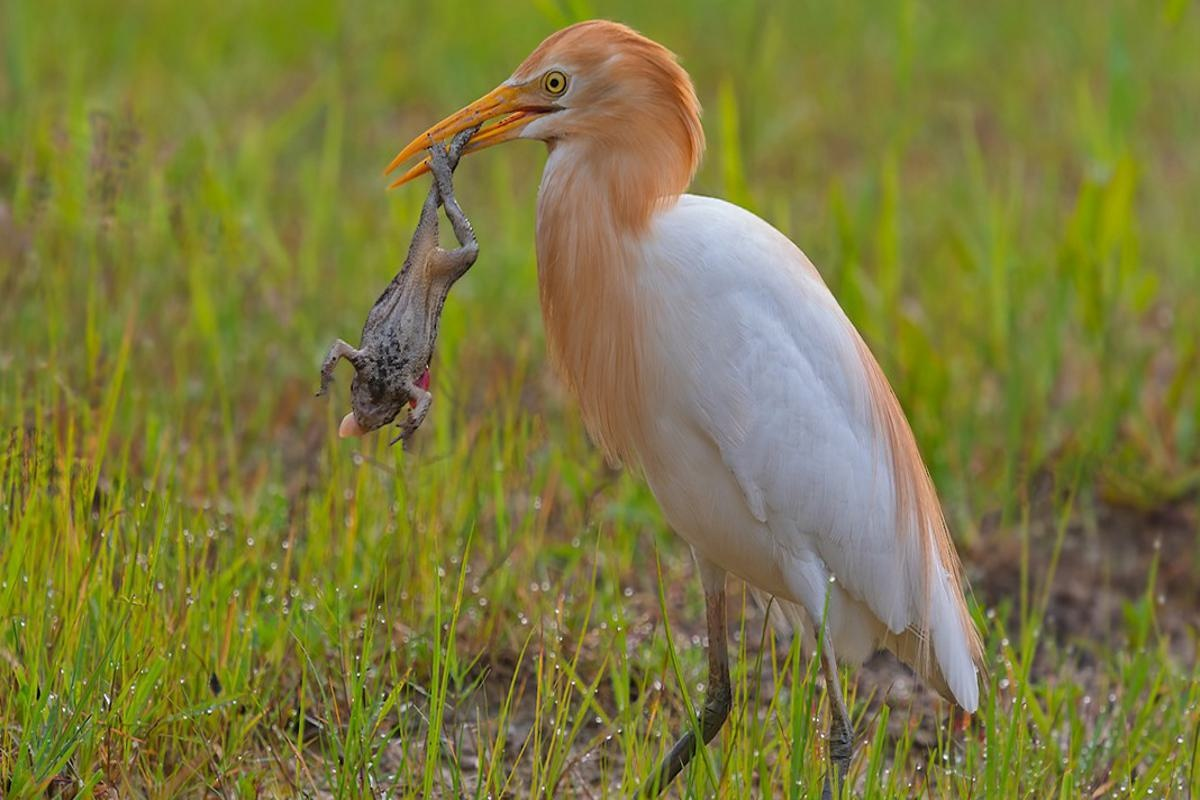egret: (380, 13, 1011, 727)
